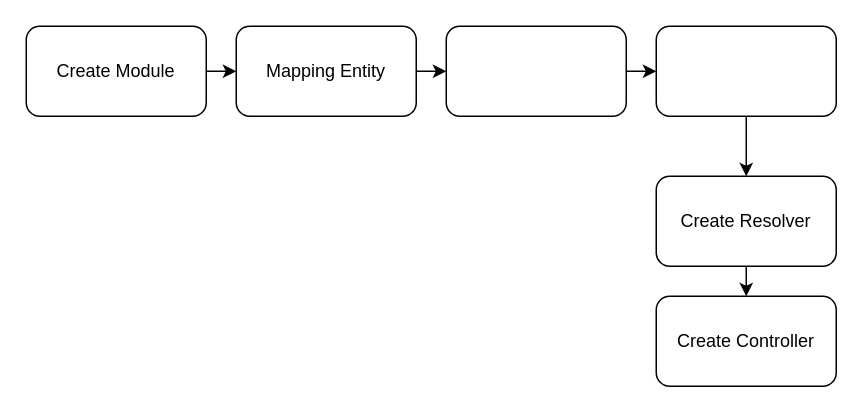
Image size: 863x413. Some labels were removed from this diagram. Here are the shapes that lost their labels. From the top down, the centre of each, then its label:
the point at 535,70: Create DTO (Data Transfer Object)
the point at 745,70: Create Service
